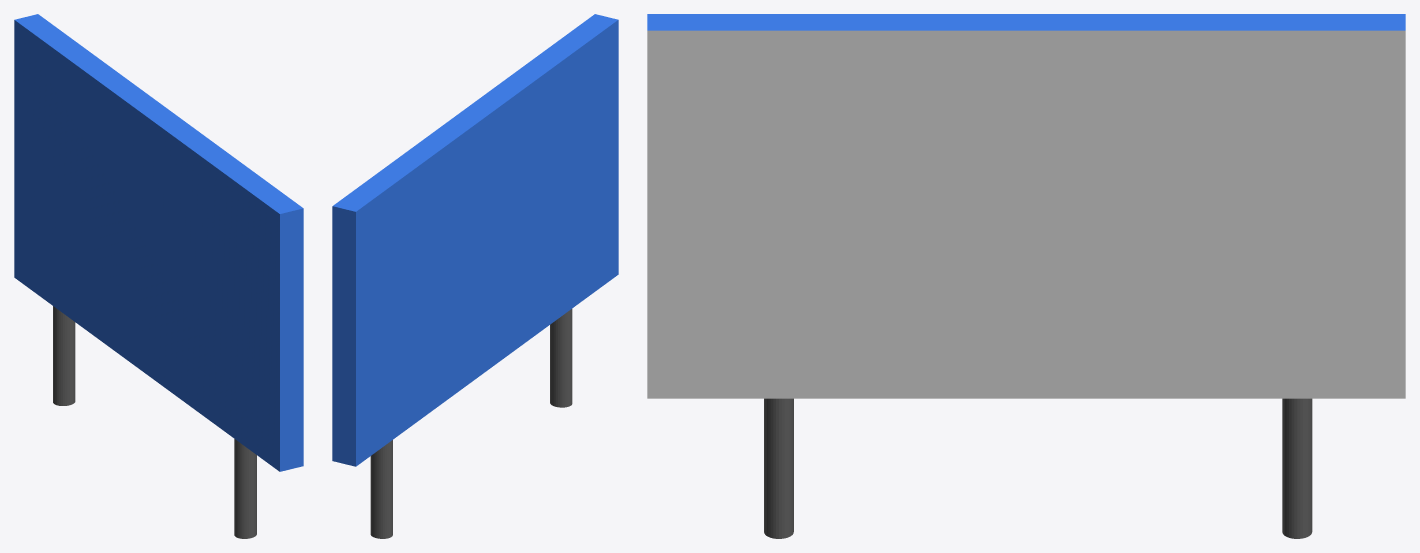
Rendered from billboard.fbx.
The picture shows the model from 3 angles, left to right: view 1: azimuth 30°, elevation 25°; view 2: azimuth 150°, elevation 25°; view 3: azimuth 270°, elevation 25°; orthographic projection. The views are drawn at different scales.
Parts seen in each view (by area): view 1: Cube, Cylinder, Cylinder.001; view 2: Cube, Cylinder, Cylinder.001; view 3: Cube, Cylinder.001, Cylinder.
Part boxes in pixels (x1,y1,x2,y2): Cube: (14, 14, 303, 471); Cylinder: (234, 439, 256, 538); Cylinder.001: (53, 306, 75, 405); Cube: (332, 14, 618, 466); Cylinder: (550, 309, 572, 407); Cylinder.001: (370, 440, 392, 538); Cube: (647, 14, 1405, 398); Cylinder.001: (1282, 398, 1312, 538); Cylinder: (764, 398, 793, 538).
Size of the model in its own units: 151 by 2172 by 2928.
